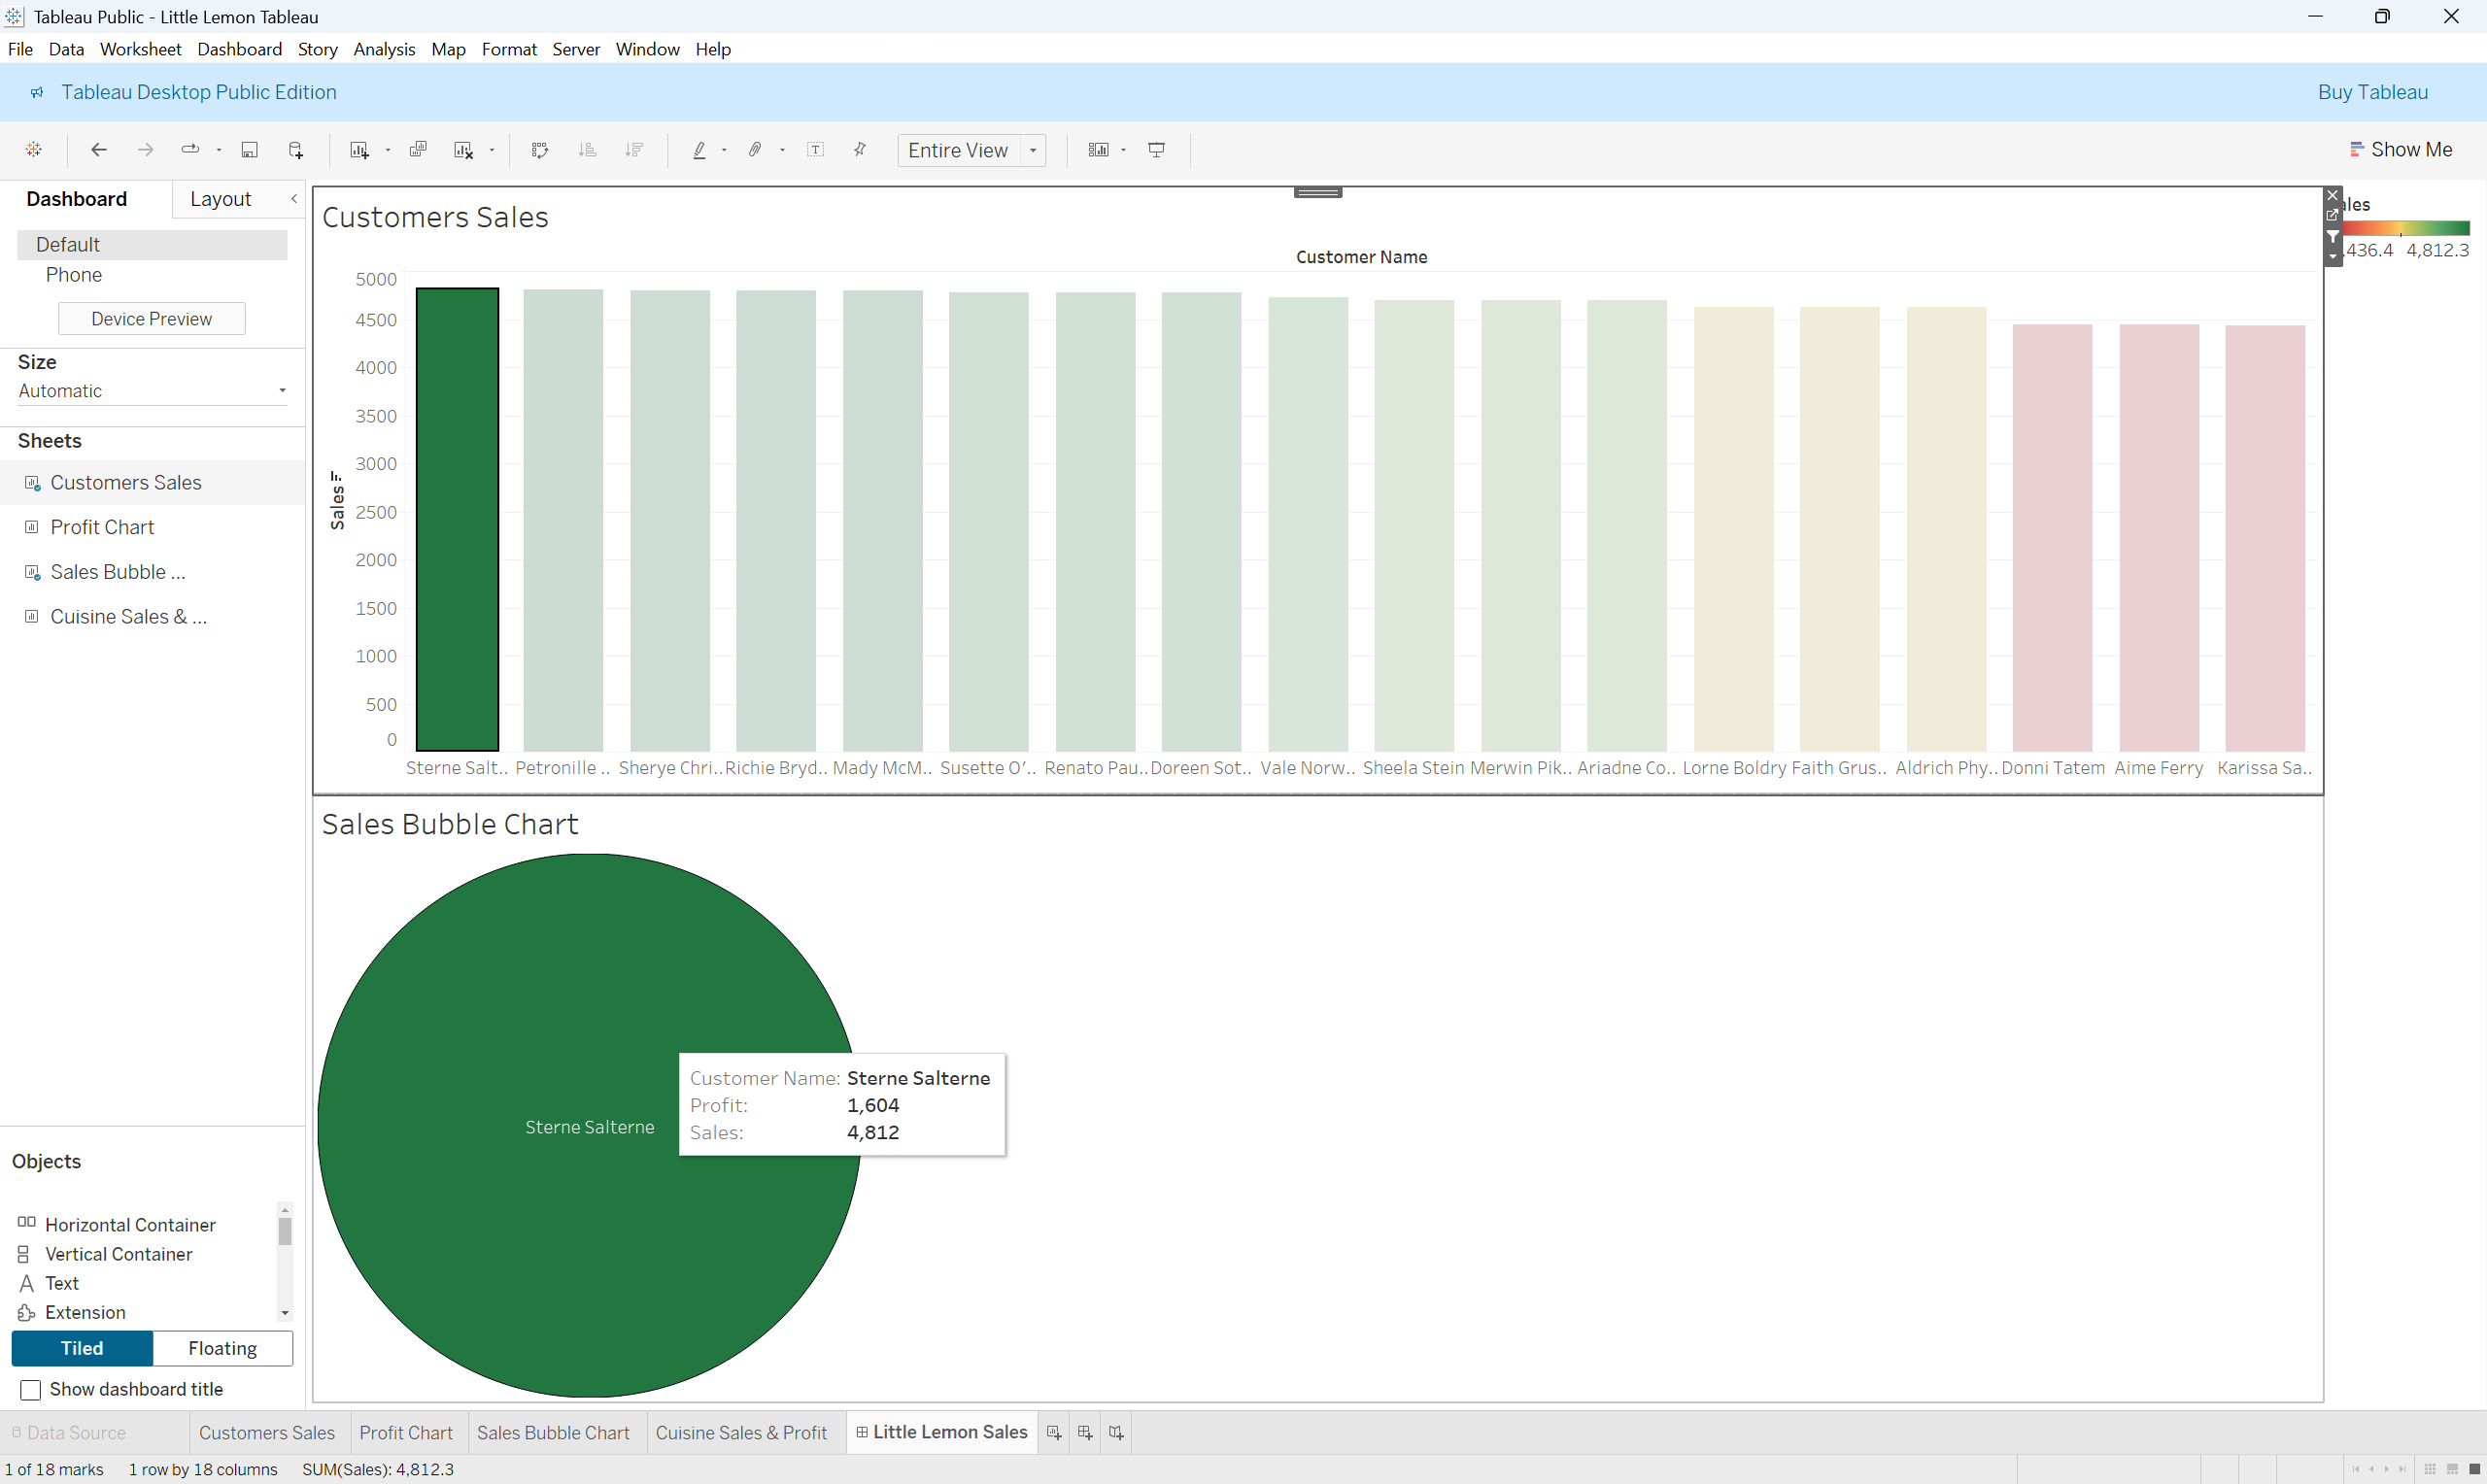

What the dashboard file says about the page in this screenshot:
{"tool":"tableau","page":{"name":"Little Lemon Sales","canvas":[1000,1000],"units":"permille","ordinal":0},"visuals":[{"type":"worksheet","title":"Customers Sales","mark":"Automatic","rows":["Sales"],"cols":["Customer Name"],"box":[3.6,6.3,921.6,493.7]},{"type":"legend","title":"Customers Sales","param":"[federated.0r2g30d1rmz8s812sdme31h0uei7].[sum:Sales:qk]","box":[925.1,6.3,71.3,64]},{"type":"worksheet","title":"Sales Bubble Chart","mark":"Circle","box":[3.6,500,921.6,493.7]}]}

Visuals, with their boxes on the dashboard's canvas, which has no fixed pixel size, in thousandths of its width and height (x1, y1, x2, y2). These are canvas units, not pixel positions in the 2487x1484 screenshot, which may show the page scaled, cropped or inside an application window:
"Customers Sales" worksheet: rect(4, 6, 925, 500)
"Customers Sales" legend: rect(925, 6, 996, 70)
"Sales Bubble Chart" worksheet (Circle marks): rect(4, 500, 925, 994)
